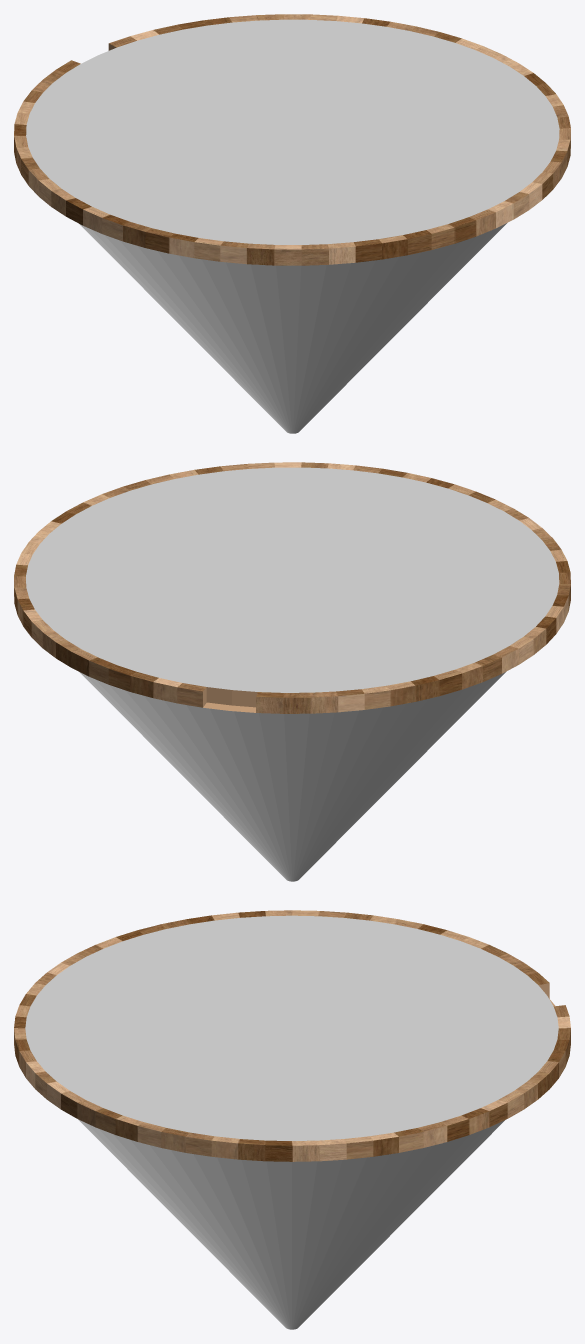
File: table.glb
3 renders of one model, top to bottom at view 1: azimuth 30°, elevation 25°; view 2: azimuth 150°, elevation 25°; view 3: azimuth 270°, elevation 25°, orthographic.
Parts seen in each view (by area): view 1: Circle.004; view 2: Circle.004; view 3: Circle.004.
Part boxes in pixels (bbox=[...]): Circle.004: bbox=[14, 14, 570, 433]; Circle.004: bbox=[14, 462, 570, 881]; Circle.004: bbox=[14, 910, 570, 1329].
Bounding box in the file's own units: 1.16 × 0.6838 × 1.16.
2 materials, 1 textured.
